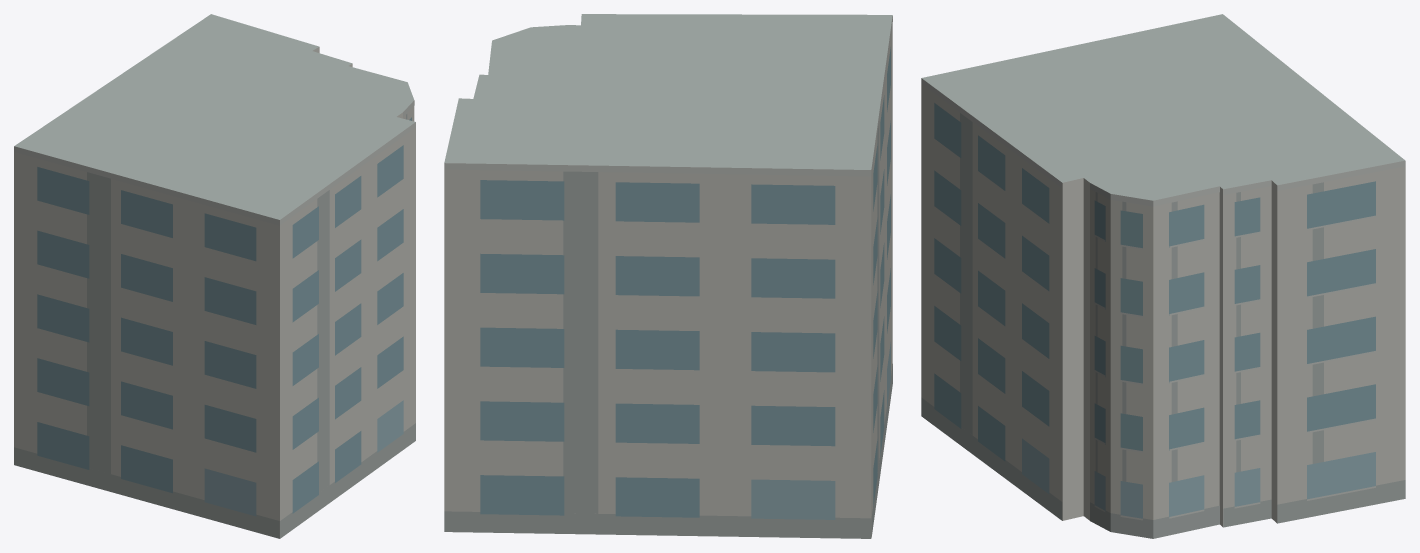
Rendered from survey-upis-32887054.glb.
3 views of the same model, side by side, from view 1: azimuth 30°, elevation 25°; view 2: azimuth 150°, elevation 25°; view 3: azimuth 270°, elevation 25° (orthographic). The views are drawn at different scales.
Parts seen in each view (by area): view 1: survey-upis-32887054.tmp; view 2: survey-upis-32887054.tmp; view 3: survey-upis-32887054.tmp.
Boxes of the visible parts, box(x1,y1,x2,y2) form: survey-upis-32887054.tmp: box(14, 14, 415, 538); survey-upis-32887054.tmp: box(444, 14, 892, 538); survey-upis-32887054.tmp: box(921, 14, 1405, 538).
Bounding box in the file's own units: 16.47 × 13.9 × 18.05.
